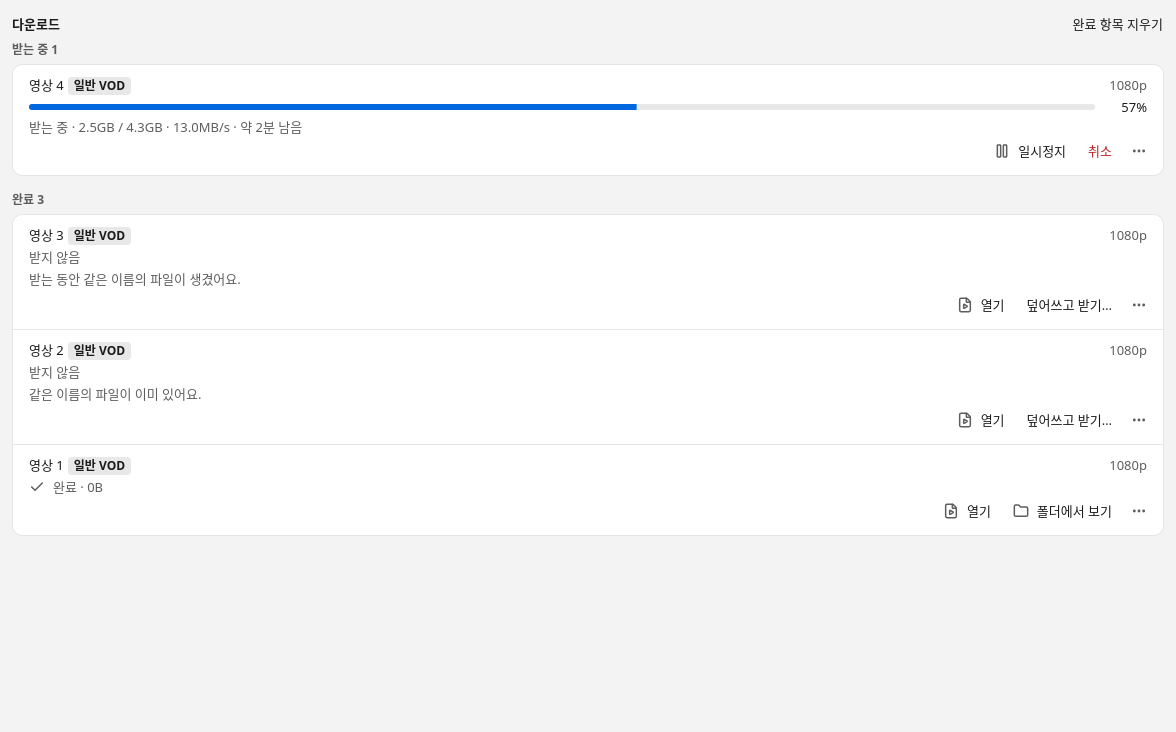
Test case: 지우기와 되돌리기(지연 삭제) › [완료 항목 지우기]: 완료·건너뜀을 숨기고 개수 토스트, 도움말은 sr-only 설명, 닫히면 숨긴 id마다 remove_job
What coordinates should you click on to do the following:
click the button "완료 항목 지우기"
I would click on:
 (1115, 24)
Its box is [1066,12,1164,36].
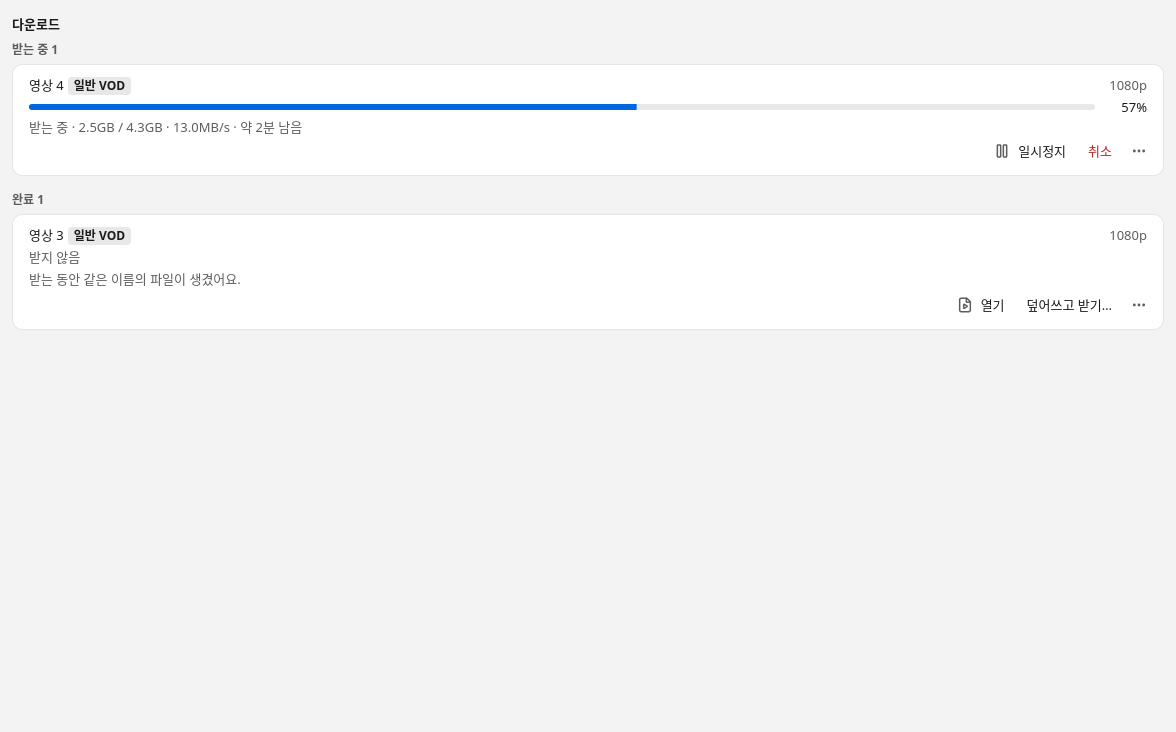
Result: the text "영상 1" is gone
Result: the text "영상 2" is gone
Result: the button "완료 항목 지우기" is gone
